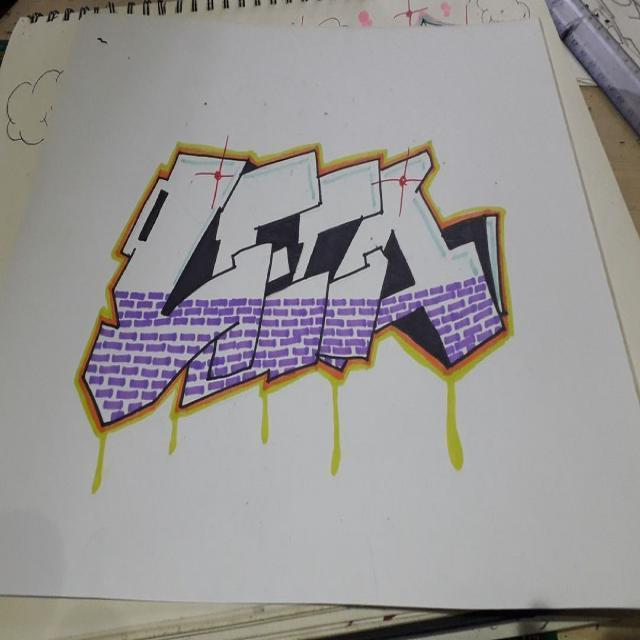-: (53, 132, 523, 455)
